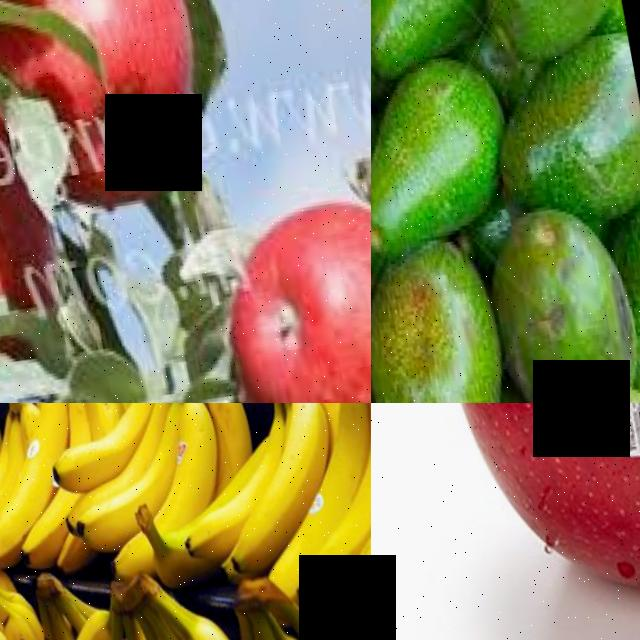apple: (392, 403, 640, 637), (0, 0, 230, 209), (204, 155, 371, 403), (0, 64, 75, 401)
avocado: (474, 176, 640, 403), (474, 17, 640, 235), (371, 39, 524, 260), (371, 197, 522, 403), (371, 0, 529, 87), (464, 0, 632, 63)
banana: (46, 403, 252, 558), (195, 403, 354, 576), (0, 403, 109, 575), (17, 579, 256, 640), (323, 403, 371, 603)
